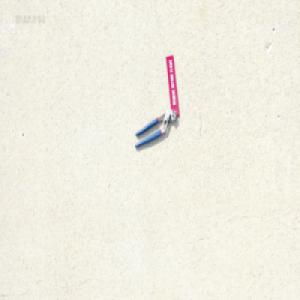Label: (165, 53, 179, 116)
Pliers: (134, 108, 176, 148)
